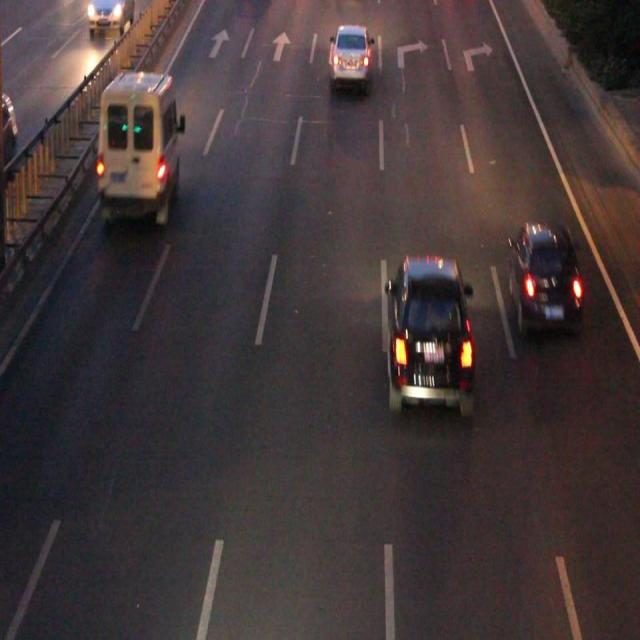car: (389, 255, 472, 408), (509, 221, 579, 330), (331, 29, 370, 84)
truck: (101, 74, 178, 212)
